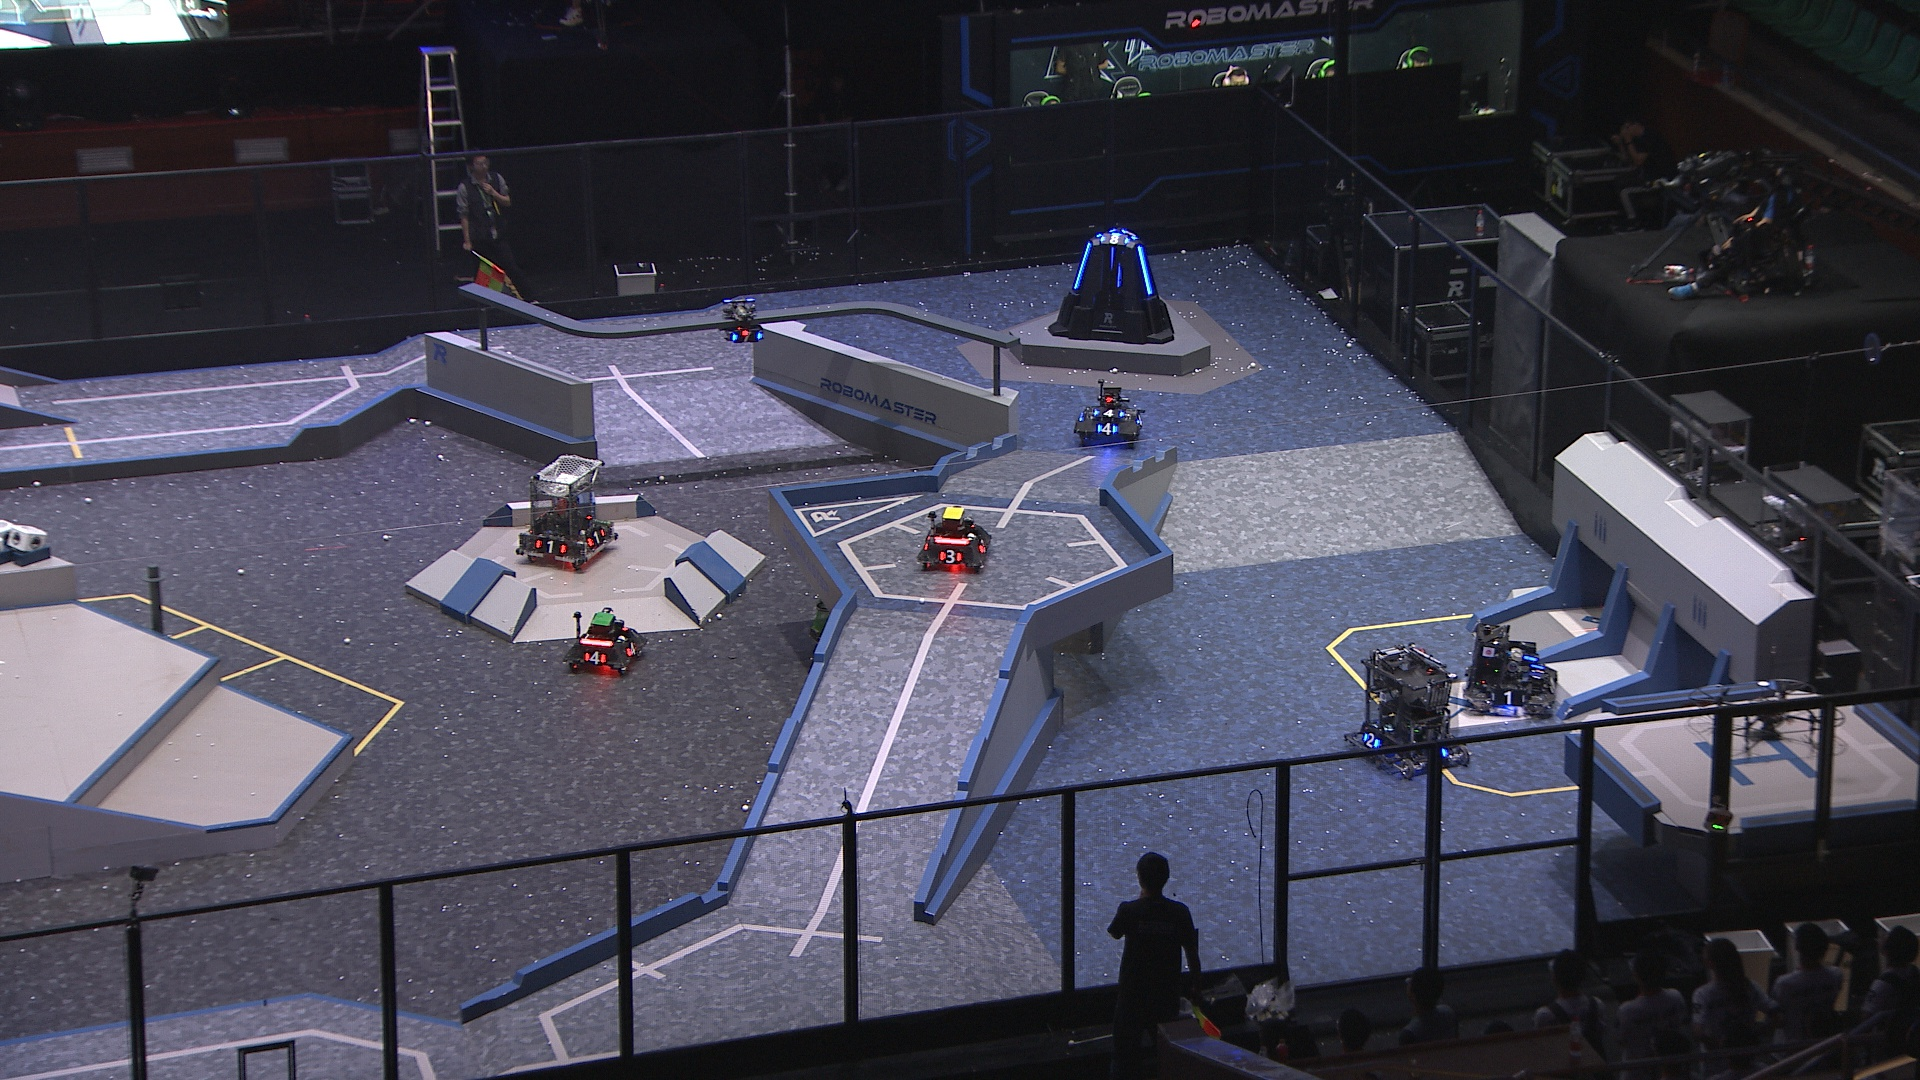armor: (1069, 240, 1095, 291), (1134, 244, 1156, 297), (1490, 688, 1528, 707), (533, 537, 568, 555), (731, 328, 765, 343), (1091, 405, 1125, 419), (582, 647, 608, 666), (938, 547, 965, 564), (1095, 419, 1120, 438), (585, 527, 608, 546), (1360, 731, 1381, 749), (1100, 233, 1131, 245), (1527, 662, 1544, 680), (975, 534, 989, 555), (1106, 245, 1117, 270), (1547, 676, 1560, 694), (626, 638, 640, 655)
base: (1044, 224, 1174, 343)
car: (1342, 642, 1474, 781), (513, 452, 618, 572), (1466, 618, 1563, 717), (566, 605, 645, 675), (915, 504, 992, 575), (1069, 384, 1147, 446)
watcher: (717, 295, 766, 344)
